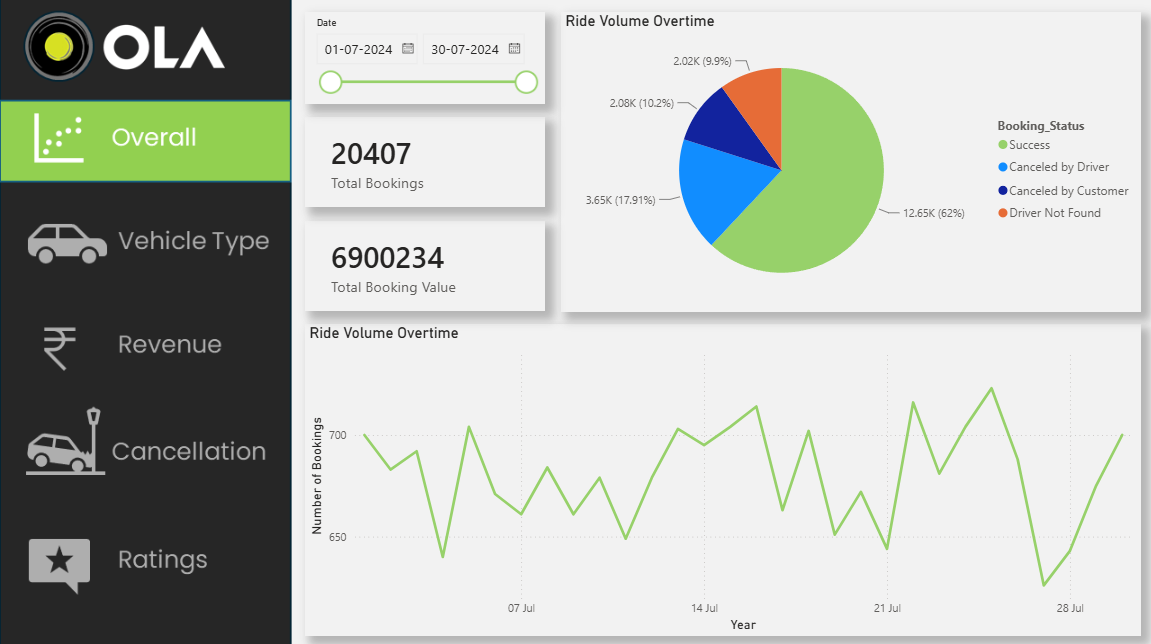

Layout of this report page (visuals, bound fields, positions):
{"tool":"powerbi","page":{"name":"Overall","canvas":[1280,720],"ordinal":0},"visuals":[{"type":"actionButton","box":[0,220,323,92],"z":0},{"type":"actionButton","box":[0,338,323,92],"z":1000},{"type":"actionButton","box":[0,449,323,104],"z":2000},{"type":"actionButton","box":[0,580,323,92],"z":3000},{"type":"lineChart","title":"Ride Volume Overtime","fields":{"Y":["CountNonNull(July.Booking_ID)"],"Category":["July.Date.Variation.Date Hierarchy.Year","July.Date.Variation.Date Hierarchy.Quarter","July.Date.Variation.Date Hierarchy.Month","July.Date.Variation.Date Hierarchy.Day"]},"box":[339,360,929,347],"z":4000},{"type":"pieChart","title":"Ride Volume Overtime","fields":{"Category":["July.Booking_Status"],"Y":["CountNonNull(July.Booking_Status)"]},"box":[623,13,645,333],"z":5000},{"type":"slicer","fields":{"Values":["July.Date"]},"box":[339,13,267,102],"z":6000},{"type":"cardVisual","fields":{"Data":["CountNonNull(July.Booking_ID)"]},"box":[339,130,267,100],"z":7000},{"type":"cardVisual","fields":{"Data":["Sum(July.Booking_Value)"]},"box":[339,246,267,100],"z":8000}]}

Visuals, with their boxes in screenshot pixels (x1, y1, x2, y2), scaled from the page's 1280x720 canvas onto the 1151x644 screenshot:
actionButton: 0/197/290/279
actionButton: 0/302/290/385
actionButton: 0/402/290/495
actionButton: 0/519/290/601
"Ride Volume Overtime" lineChart: 305/322/1140/632
"Ride Volume Overtime" pieChart: 560/12/1140/309
slicer - July.Date: 305/12/545/103
cardVisual - CountNonNull(July.Booking_ID): 305/116/545/206
cardVisual - Sum(July.Booking_Value): 305/220/545/309
